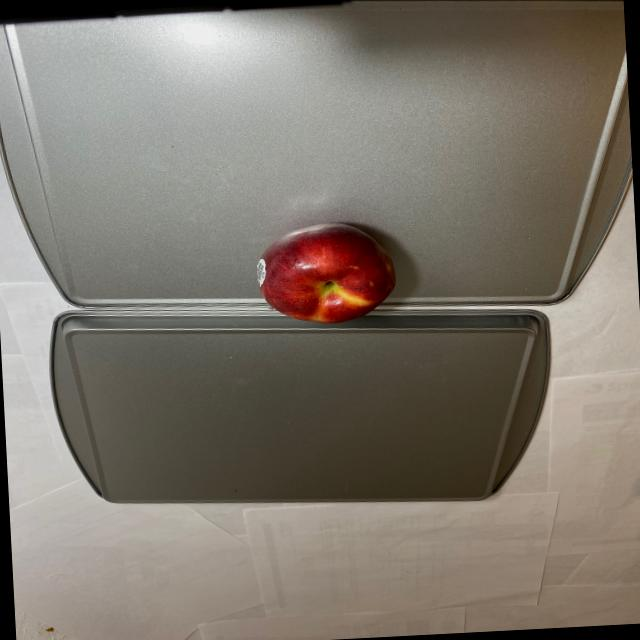apple: (256, 224, 404, 328)
